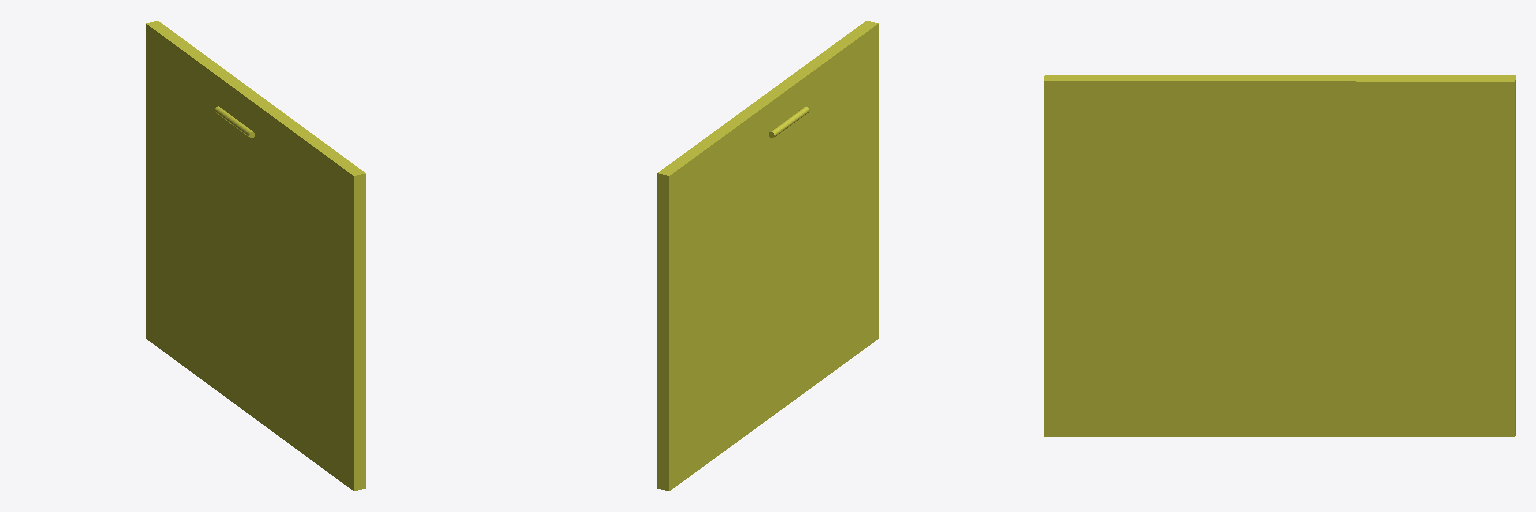
URDF robot description (dishwasher_door):
<?xml version="1.0" ?>
<robot name="dishwasher_door">
    <link name="world"/>
    <joint name="fixed" type="fixed">
        <parent link="world"/>
        <child link="door_base_link"/>
        <origin xyz="0.65 0 0.01" rpy="0 0 3.14"/>
    </joint>

    <link name="door_base_link"/>
    <link name="door_link">
        <inertial>
            <origin rpy="0 0 0" xyz="0 0 0.25"/>
            <mass value="1.0"/>
            <inertia ixx="0.048966669" ixy="0" ixz="0" iyy="0.046466667" iyz="0" izz="0.0041666669"/>
        </inertial>
        <visual>
            <origin rpy="0 0 0" xyz="0 0 0.25"/>
            <geometry>
                <box size="0.02 0.6 0.5"/>
            </geometry>
            <material name="door_material">
                <color rgba="0.8 0.8 0.3 1" />
            </material>
        </visual>
        <collision>
            <origin rpy="0 0 0" xyz="0 0 0.25"/>
            <geometry>
                <box size="0.02 0.6 0.5"/>
            </geometry>
        </collision>

    </link>
    <joint name="door_joint" type="continuous">
        <parent link="door_base_link"/>
        <child link="door_link"/>
        <dynamics damping="1.0" friction="4.0"/>
        <origin xyz="0 0 0"/>
        <axis xyz="0 1 0"/>
    </joint>

    <link name="handle_link">
        <inertial>
            <origin rpy="0 0 0" xyz="0 0 0"/>
            <mass value="0.1"/>
            <inertia ixx="0.001" ixy="0" ixz="0" iyy="0.001" iyz="0" izz="0.001"/>
        </inertial>
        <visual>
            <origin rpy="0 0 0" xyz="0 0 0"/>
            <geometry>
                <cylinder radius="0.005" length="0.10"/>
            </geometry>
            <material name="handle_matreial">
                <color rgba="0.8 0.8 0.3 1" />
            </material>
        </visual>
        <collision>
            <origin rpy="0 0 0" xyz="0 0 0"/>
            <geometry>
                <cylinder radius="0.005" length="0.010"/>
            </geometry>
        </collision>
    </link>

    <joint name="handle_joint" type="fixed">
        <parent link="door_link"/>
        <child link="handle_link"/>
        <origin xyz="0.035 0 0.47" rpy="1.5708 0 0"/>
        <axis xyz="0 1 0"/>
    </joint>
</robot>

--- What the picture shows (computed from the rendered views, not written in the file) ---
Views: 3 orthographic renders of the robot side by side, from view 1: azimuth 30°, elevation 25°; view 2: azimuth 150°, elevation 25°; view 3: azimuth 270°, elevation 25°.
Model dishwasher_door with 4 links and 3 joints (1 continuous, 2 fixed), rooted at world, posed every joint at zero.
Visible links, largest first — view 1: door_link; view 2: door_link; view 3: door_link.
Boxes of the visible links, x1,y1,x2,y2 form: door_link: (146,21,365,490); door_link: (657,21,878,490); door_link: (1044,75,1515,436).
Bounding box of the posed robot: 0.0506 × 0.6 × 0.5 m (x, y, z).
Geometry: primitives only (box / cylinder / sphere), no mesh files.